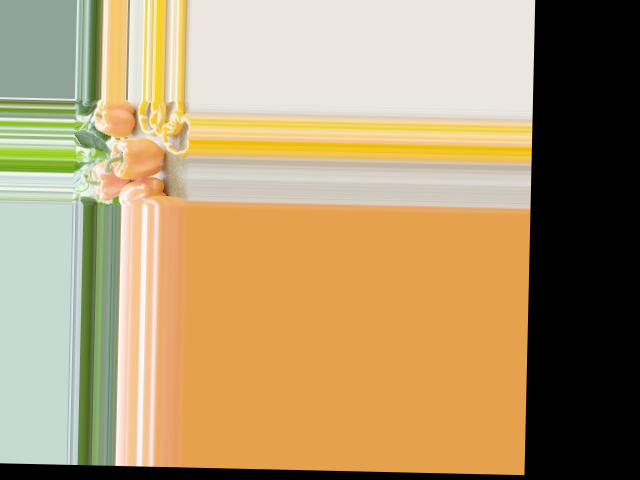bell_pepper: (117, 177, 167, 206)
